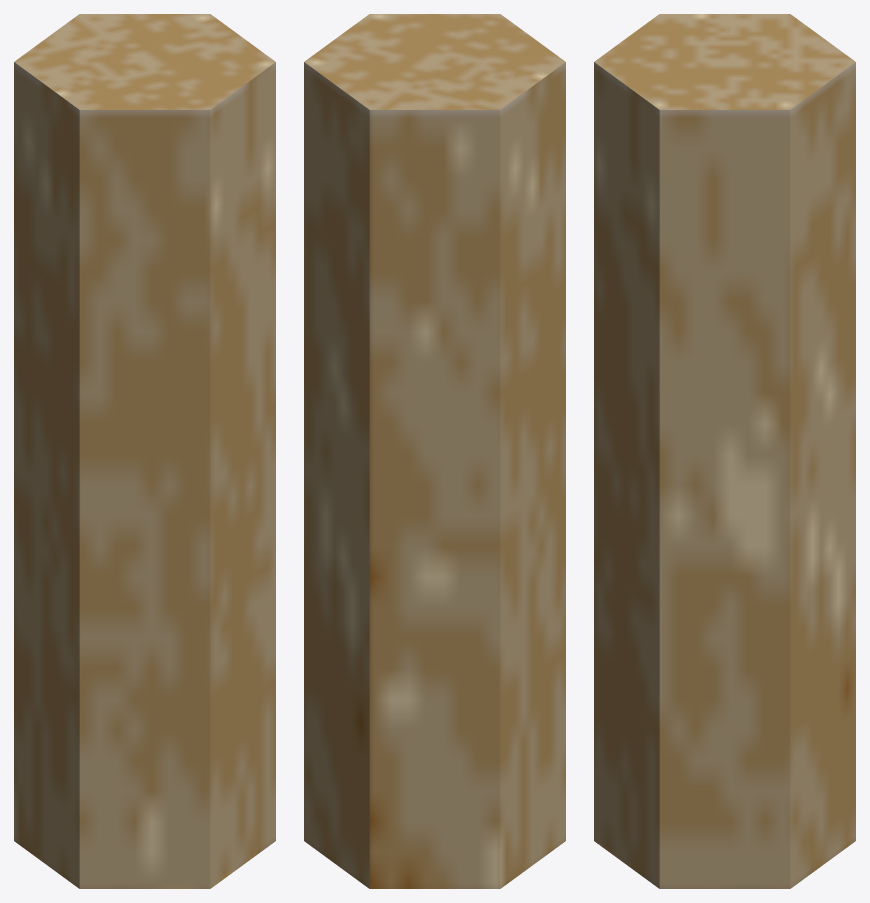
Rendered from SM_Dungeon_Candle_Tall.fbx.
The picture shows the model from 3 angles, left to right: view 1: azimuth 30°, elevation 25°; view 2: azimuth 150°, elevation 25°; view 3: azimuth 270°, elevation 25°; orthographic projection.
Visible parts, largest first — view 1: SM_Dungeon_Candle_Tall; view 2: SM_Dungeon_Candle_Tall; view 3: SM_Dungeon_Candle_Tall.
Boxes of the visible parts, bbox=[...] form: SM_Dungeon_Candle_Tall: bbox=[14, 14, 275, 888]; SM_Dungeon_Candle_Tall: bbox=[304, 14, 565, 888]; SM_Dungeon_Candle_Tall: bbox=[594, 14, 855, 888].
Size of the model in its own units: 7.59 by 28.76 by 8.76.
